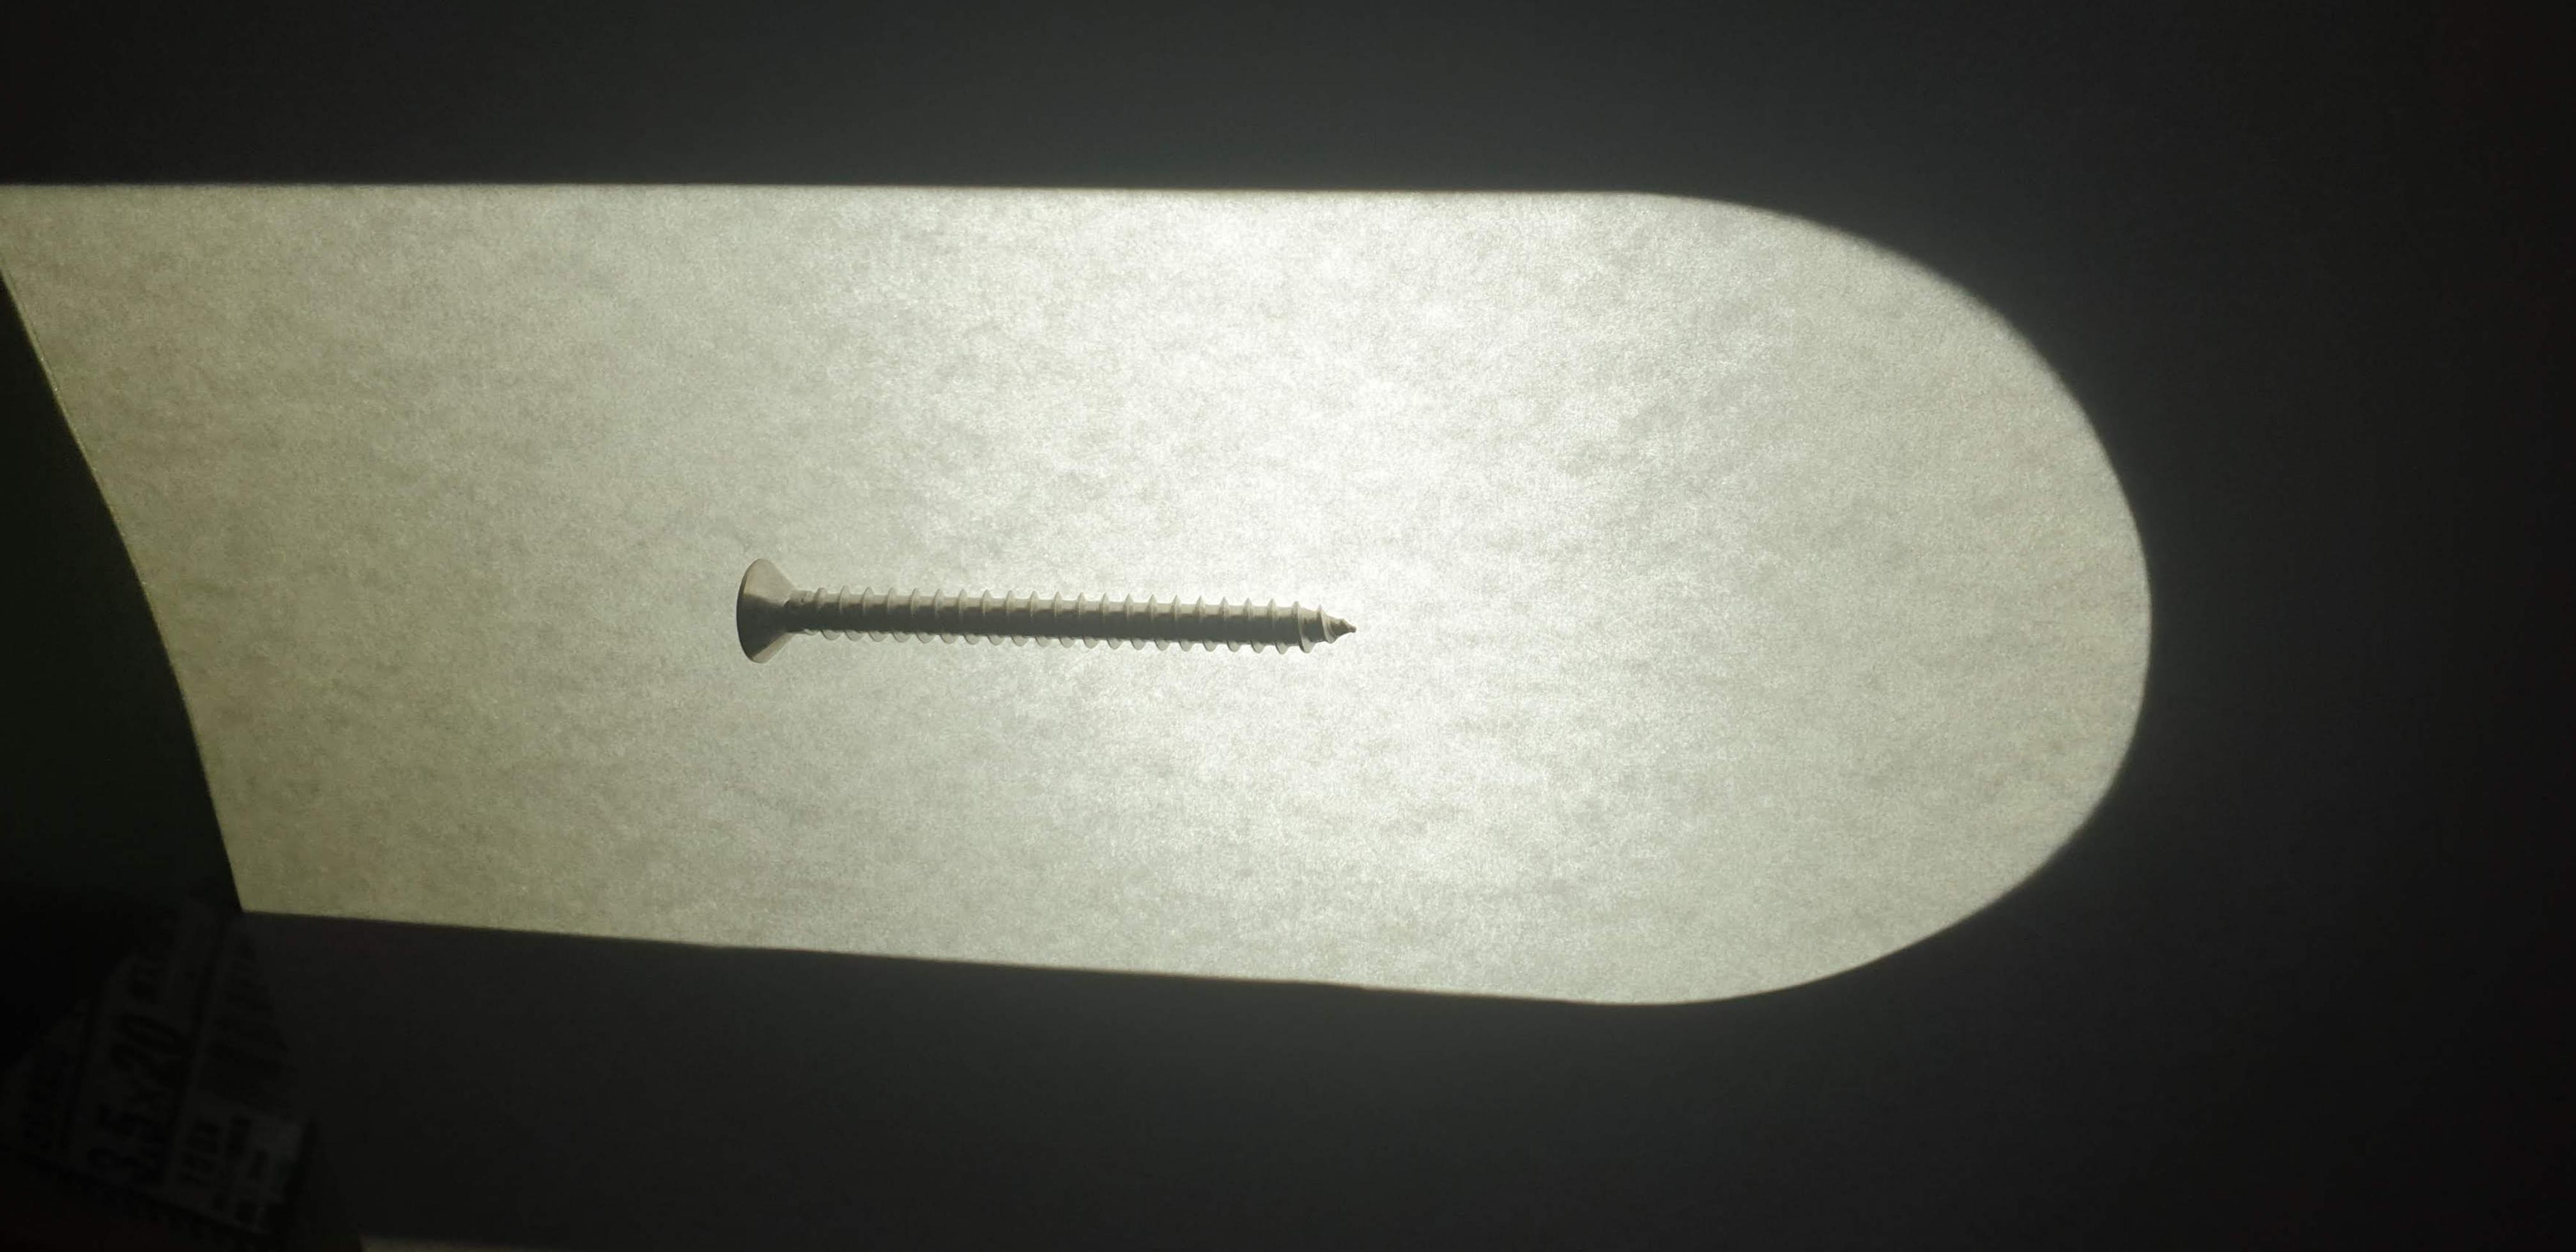S001: (710, 513, 1385, 721)
